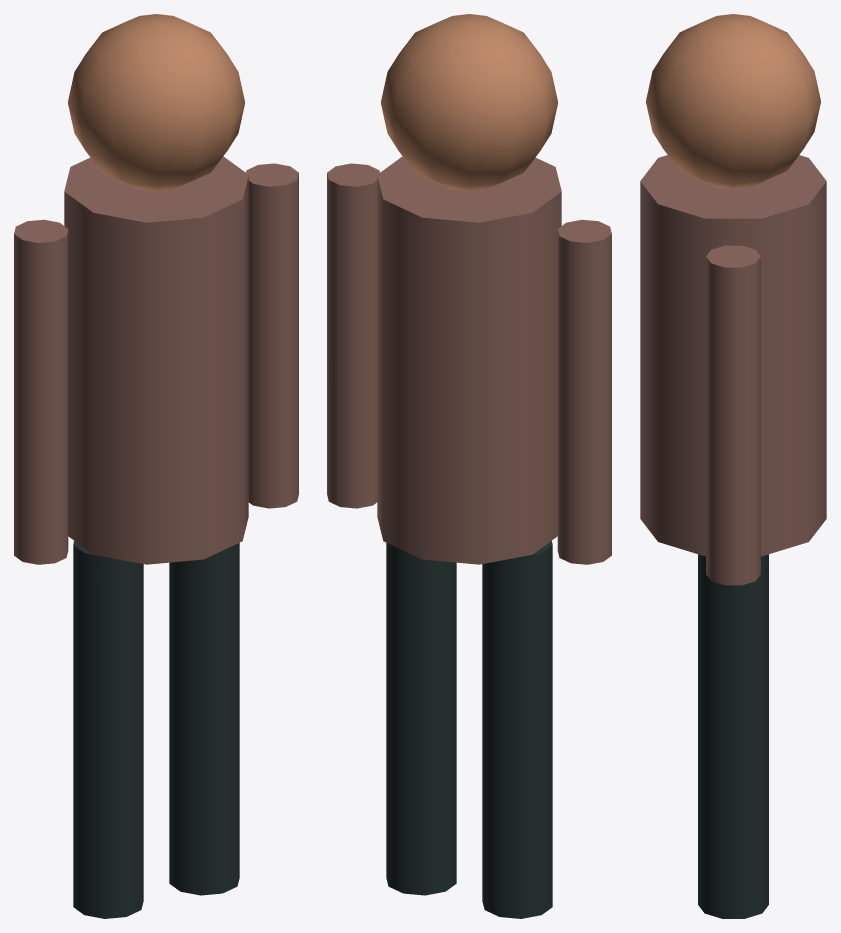
File: pedestrian-woman.glb
The picture shows the model from 3 angles, left to right: view 1: azimuth 30°, elevation 25°; view 2: azimuth 150°, elevation 25°; view 3: azimuth 270°, elevation 25°; orthographic projection.
Visible parts, largest first — view 1: pedestrian-woman; view 2: pedestrian-woman; view 3: pedestrian-woman.
Part boxes in pixels (<box>): pedestrian-woman: <box>14,14,298,918</box>; pedestrian-woman: <box>327,14,611,918</box>; pedestrian-woman: <box>640,14,826,918</box>.
Bounding box in the file's own units: 0.5751 × 1.73 × 0.34.
